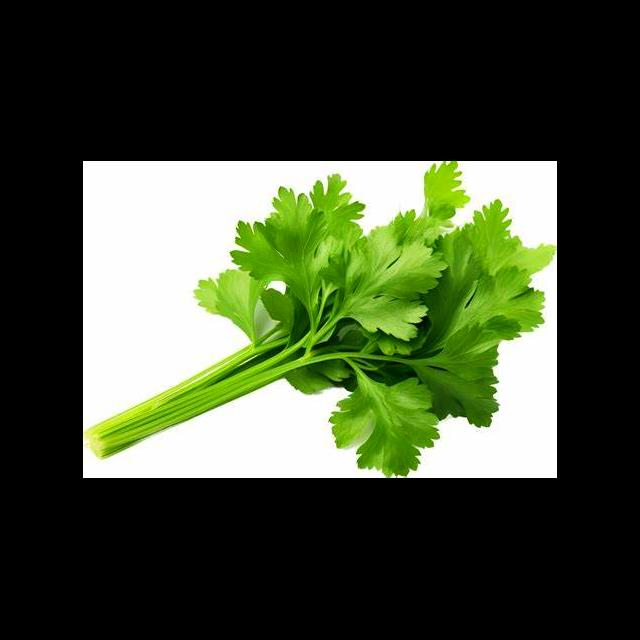cilantro: (84, 162, 555, 476)
